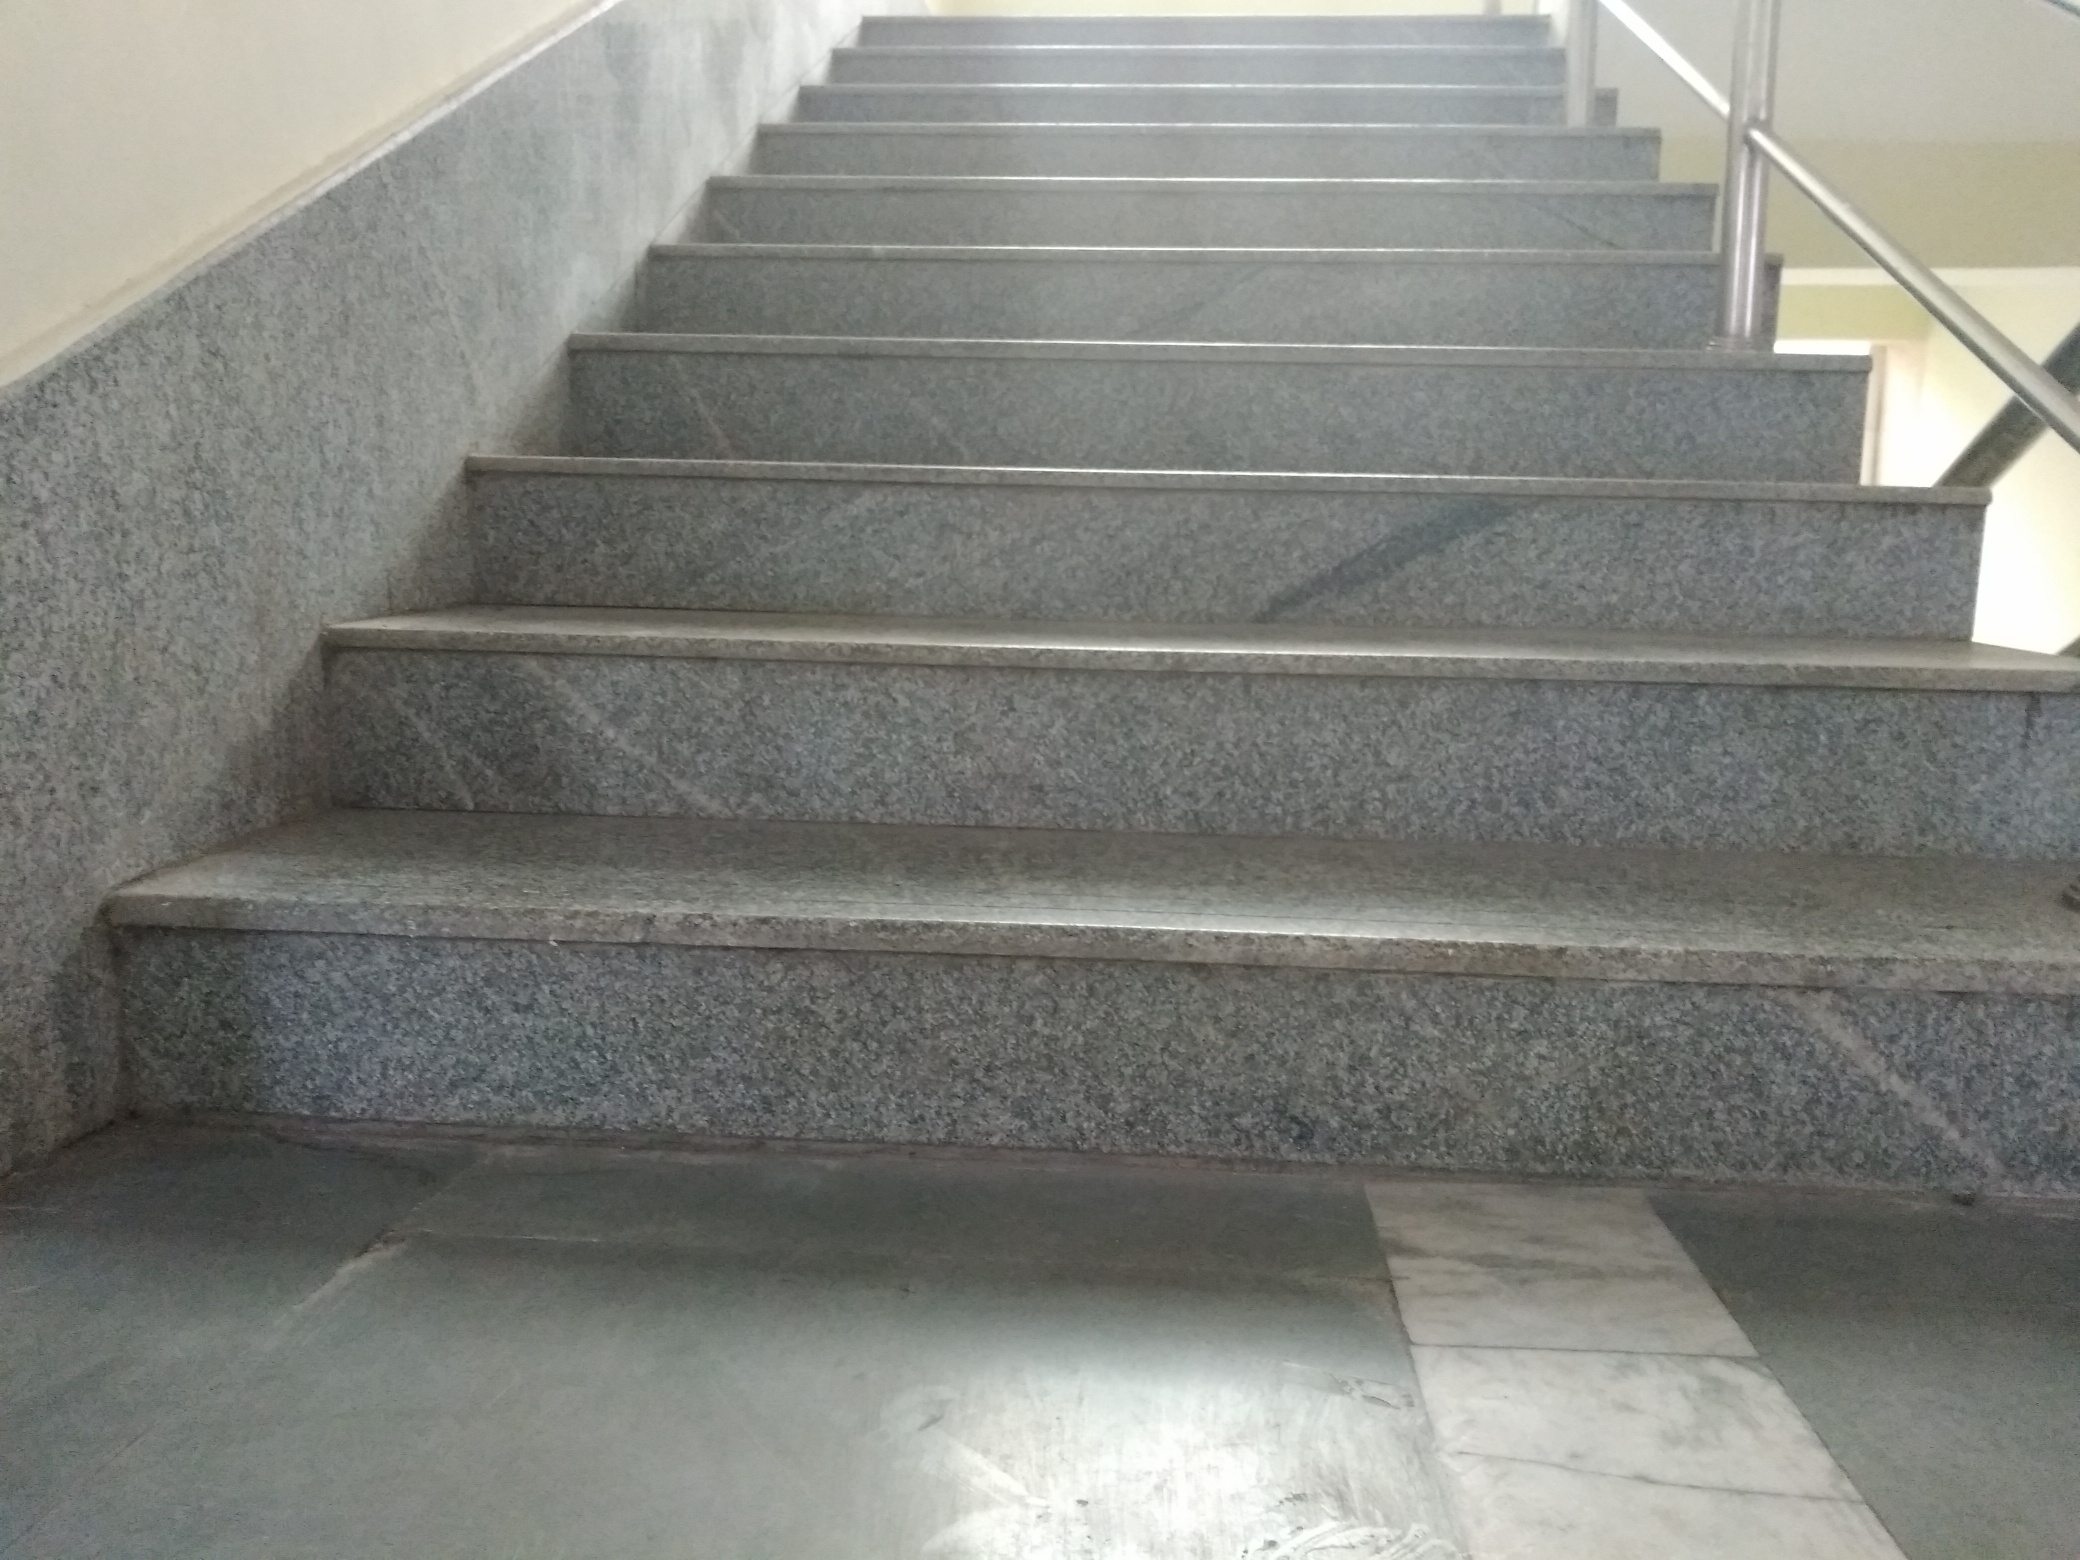stairs_up: (138, 5, 2080, 1195)
